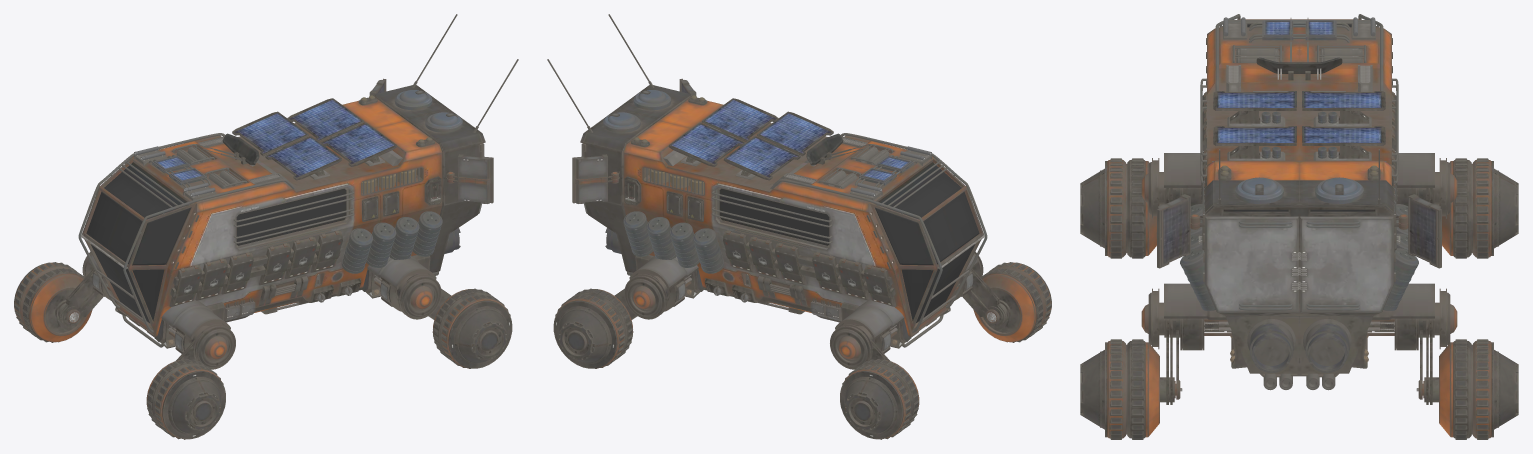
The model's file is mars_rover_2.glb.
The picture shows the model from 3 angles, left to right: view 1: azimuth 30°, elevation 25°; view 2: azimuth 150°, elevation 25°; view 3: azimuth 270°, elevation 25°; orthographic projection. The views are drawn at different scales.
Parts seen in each view (by area): view 1: defaultMaterial (×2); view 2: defaultMaterial (×2); view 3: defaultMaterial (×2).
Part boxes in pixels (x1,y1,x2,y2): defaultMaterial (×2): [14, 14, 518, 439]; defaultMaterial (×2): [547, 14, 1051, 439]; defaultMaterial (×2): [1080, 14, 1518, 439].
Bounding box in the file's own units: 1300 × 804 × 943.
2 materials, 2 textured.
